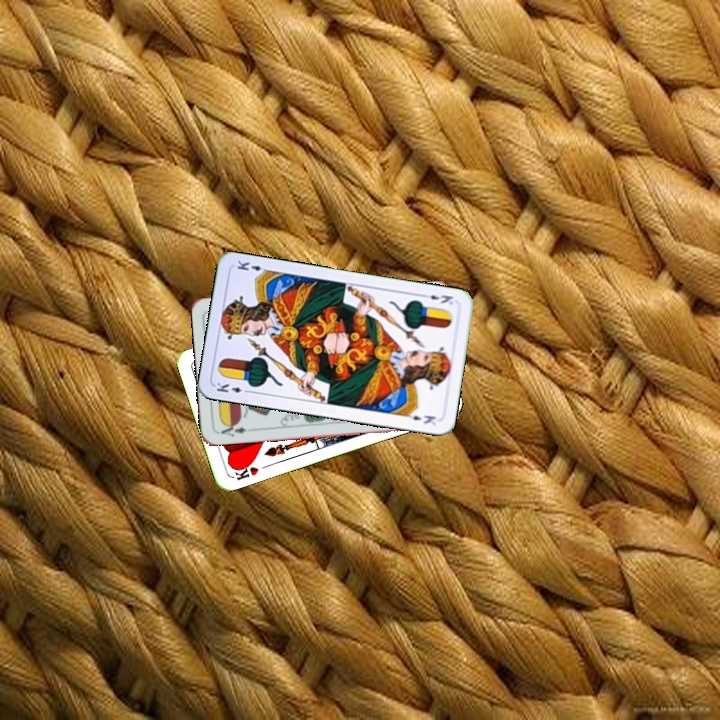EA: (215, 419, 255, 439)
EK: (212, 378, 253, 396), (418, 290, 456, 307)
HK: (229, 459, 261, 483)
